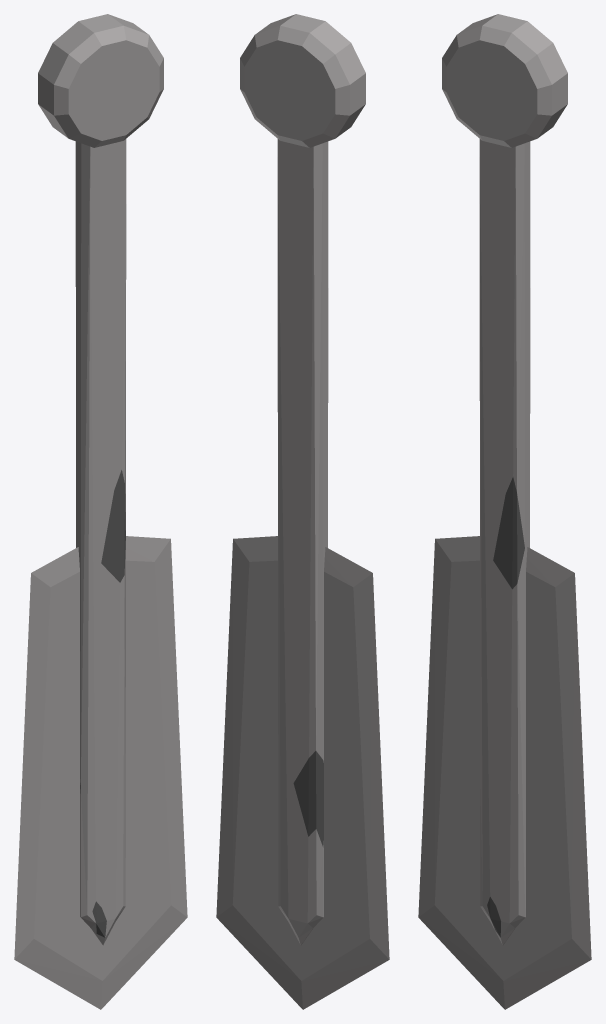
The model's file is MetalPendulumTrap_8.fbx.
3 views of the same model, side by side, from view 1: azimuth 30°, elevation 25°; view 2: azimuth 150°, elevation 25°; view 3: azimuth 330°, elevation 25° (orthographic).
Visible parts, largest first — view 1: MetalPendulumTrap_8; view 2: MetalPendulumTrap_8; view 3: MetalPendulumTrap_8.
Part boxes in pixels (x1,y1,x2,y2): MetalPendulumTrap_8: (14,14,187,1009); MetalPendulumTrap_8: (216,14,389,1009); MetalPendulumTrap_8: (418,14,591,1009).
Size of the model in its own units: 59.56 by 324 by 15.66.
